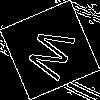W: (25, 25, 85, 86)
